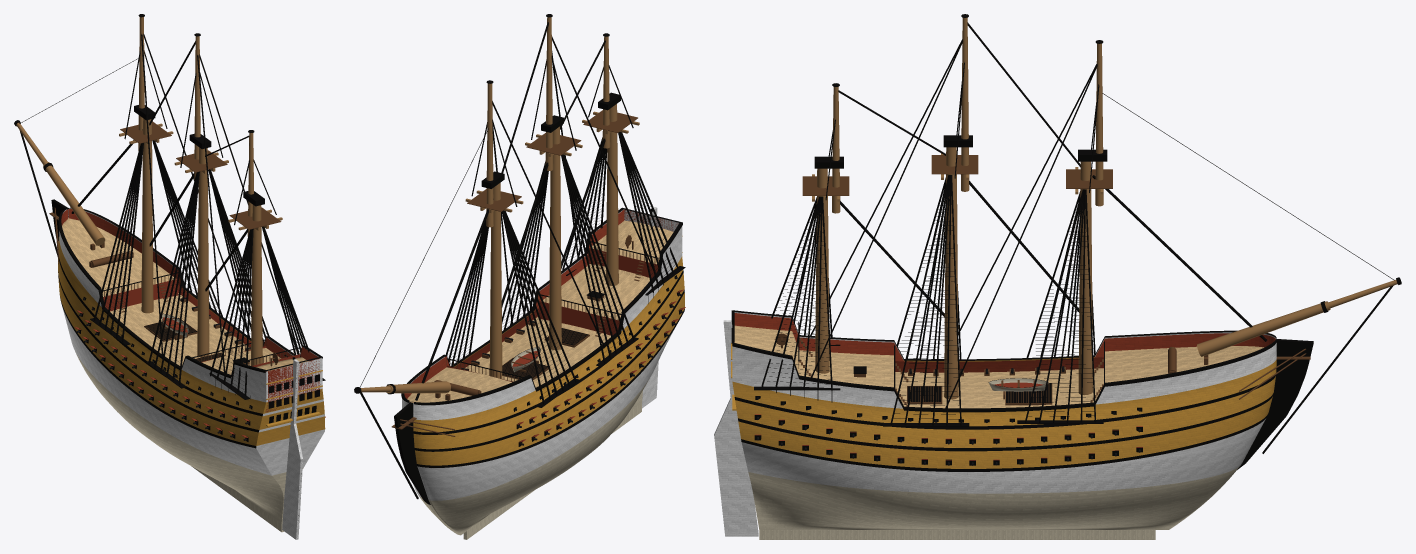
The model's file is first_rate.glb.
3 renders of one model, left to right at view 1: azimuth 30°, elevation 25°; view 2: azimuth 150°, elevation 25°; view 3: azimuth 270°, elevation 25°, orthographic. The views are drawn at different scales.
Parts seen in each view (by area): view 1: hull; view 2: hull; view 3: hull.
Part boxes in pixels (x1,y1,x2,y2): hull: [14, 14, 325, 539]; hull: [354, 14, 685, 539]; hull: [714, 14, 1401, 539].
Bounding box in the file's own units: 16.95 × 62.31 × 74.2.
9 materials, 5 textured.
